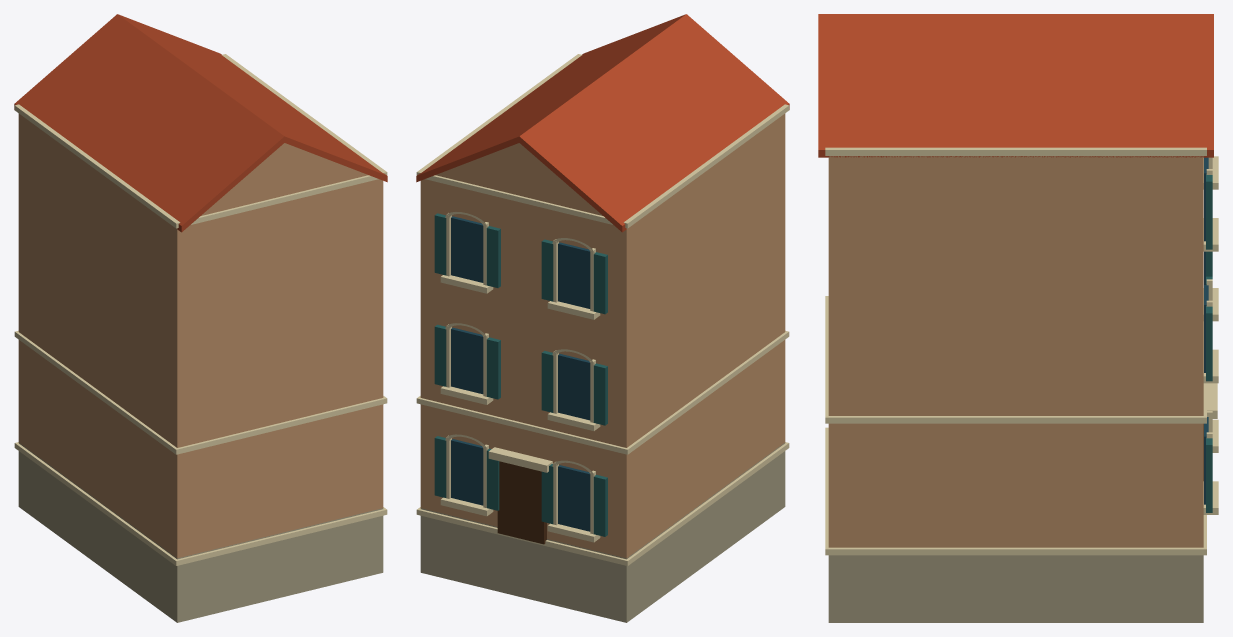
File: narrow_house.glb
3 renders of one model, left to right at view 1: azimuth 30°, elevation 25°; view 2: azimuth 150°, elevation 25°; view 3: azimuth 270°, elevation 25°, orthographic. The views are drawn at different scales.
Visible parts, largest first — view 1: House; view 2: House; view 3: House.
Part boxes in pixels (x1,y1,x2,y2): House: (14, 14, 387, 622); House: (416, 14, 789, 622); House: (818, 14, 1218, 622).
Bounding box in the file's own units: 6.15 × 12.94 × 8.54.
